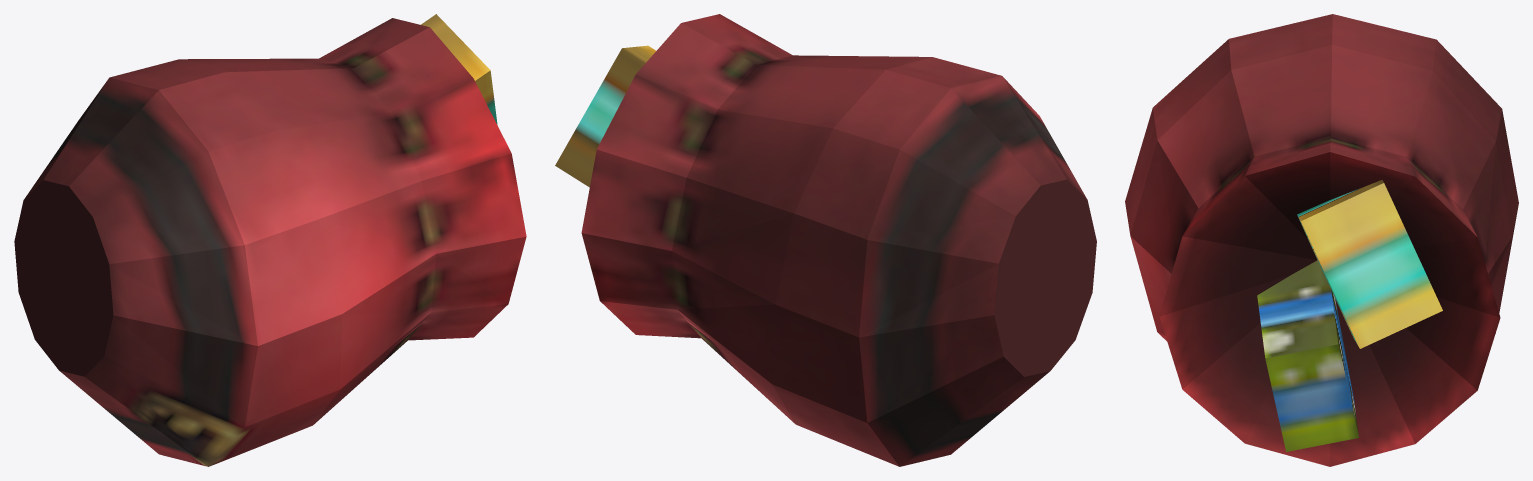
File: add_back08_Christmas1.FBX
The picture shows the model from 3 angles, left to right: view 1: azimuth 30°, elevation 25°; view 2: azimuth 150°, elevation 25°; view 3: azimuth 270°, elevation 25°; orthographic projection. The views are drawn at different scales.
Parts seen in each view (by area): view 1: Back_Christmas01; view 2: Back_Christmas01; view 3: Back_Christmas01.
Boxes of the visible parts, <box> form: Back_Christmas01: <box>14,14,526,466</box>; Back_Christmas01: <box>555,14,1096,466</box>; Back_Christmas01: <box>1125,14,1518,466</box>.
Size of the model in its own units: 1.18 by 0.9128 by 0.8604.
